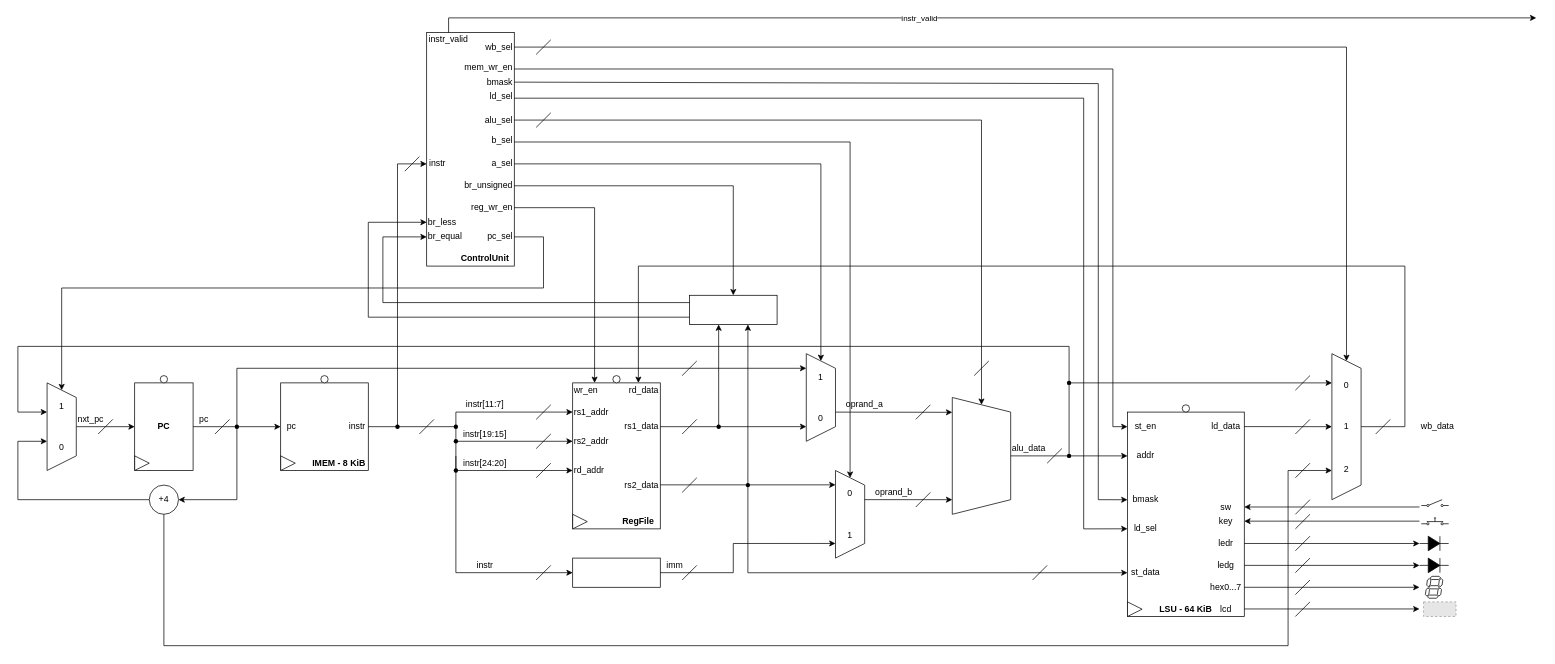
This 1555x664 diagram has some shape labels left out. Grey dashed boxes stand in for pictures. The shapes that lost their labels are listed below. From the top down, each one's centre as x and y in pixels, then its label:
point 733,309: BrComp
point 981,455: ALU
point 616,572: ImmGen
